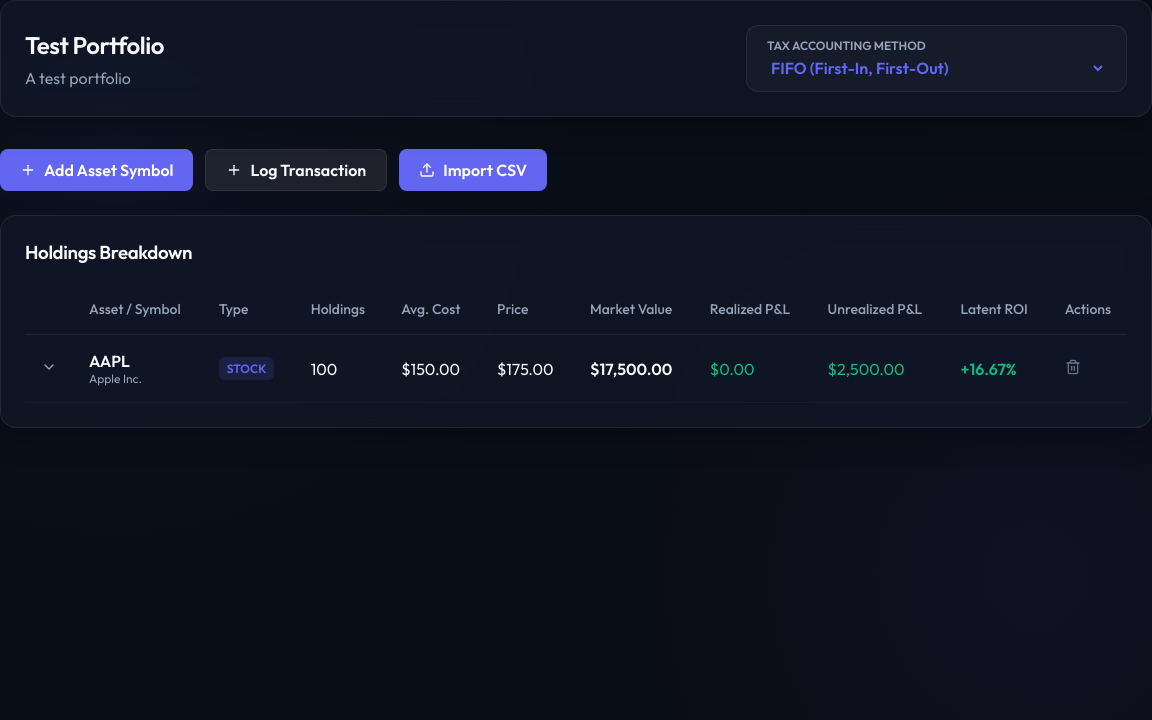
PortfolioDetail › allows selecting SPLIT in transaction modal and hides fee
Click the button "Log Transaction" at (296, 170), box [205,149,387,191]
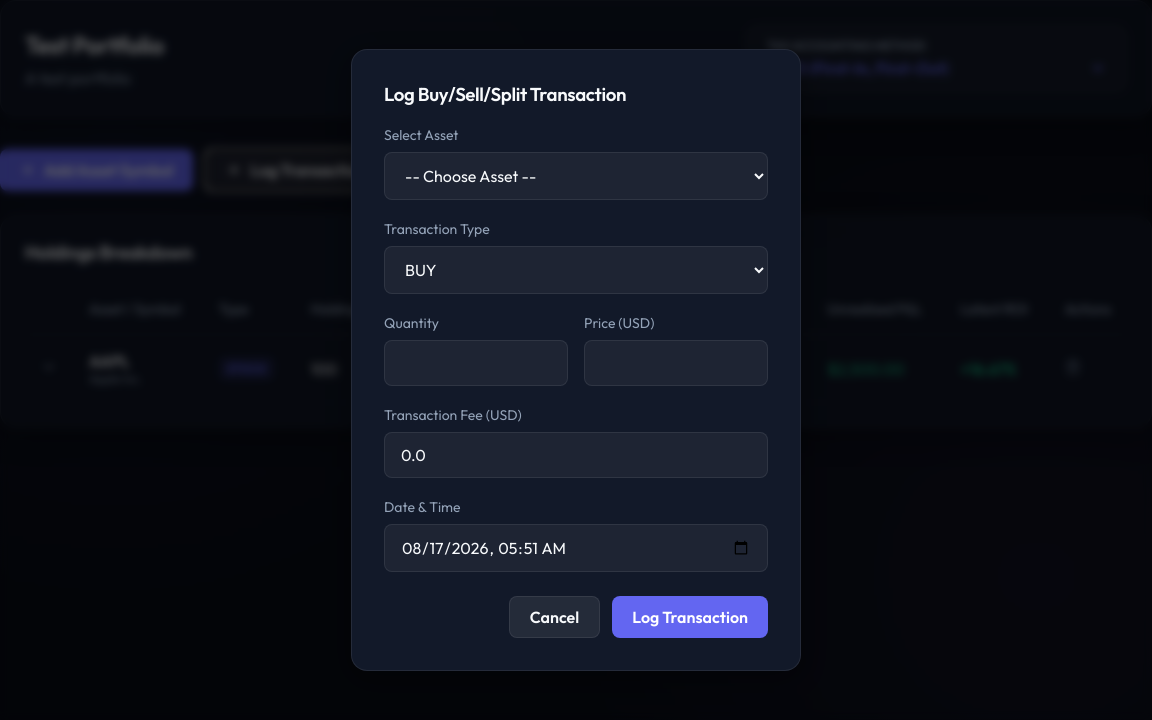
Now the heading "Log Buy/Sell/Split Transaction" is shown, box [384,82,626,106]
Select "SPLIT" in the dropdown below "Transaction Type" at (576, 270), box [384,246,768,294]
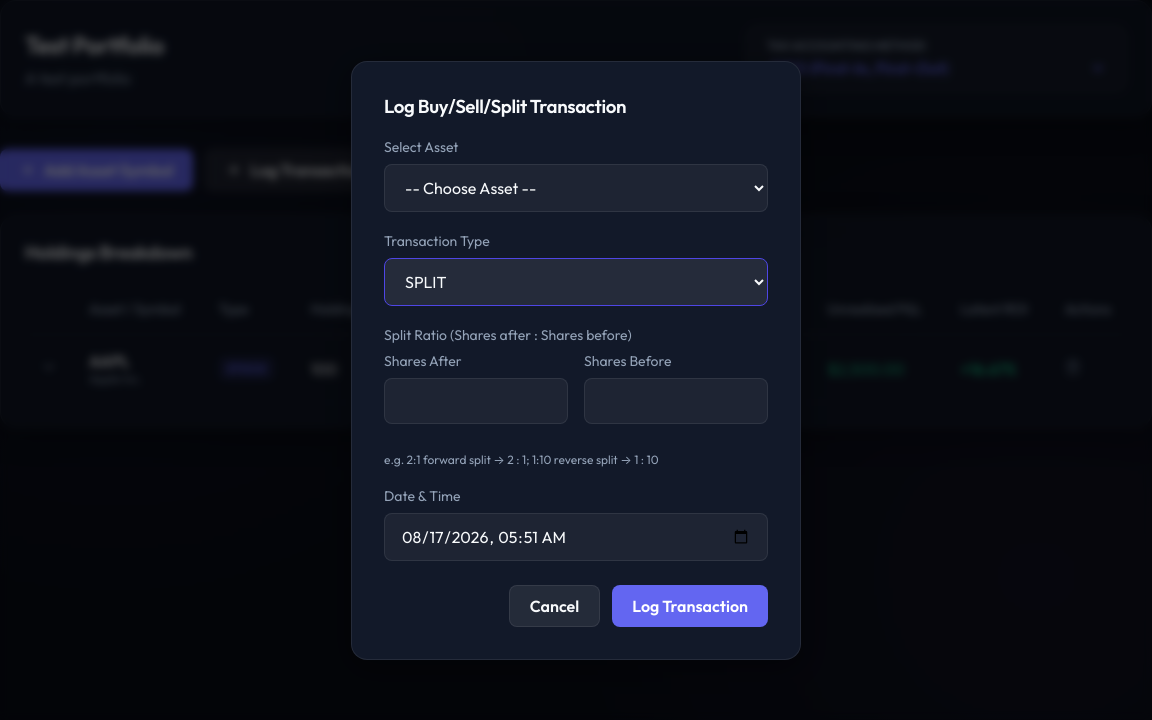
Now the text "Split Ratio (Shares after : Shares before)" is shown, box [384,326,632,344]
Now the text "Transaction Fee" is gone
